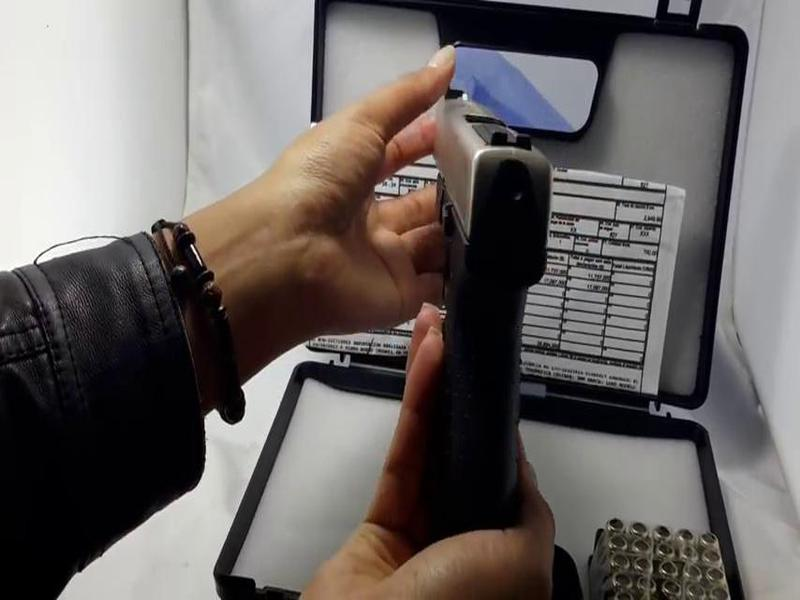Pistola: (345, 70, 622, 549)
